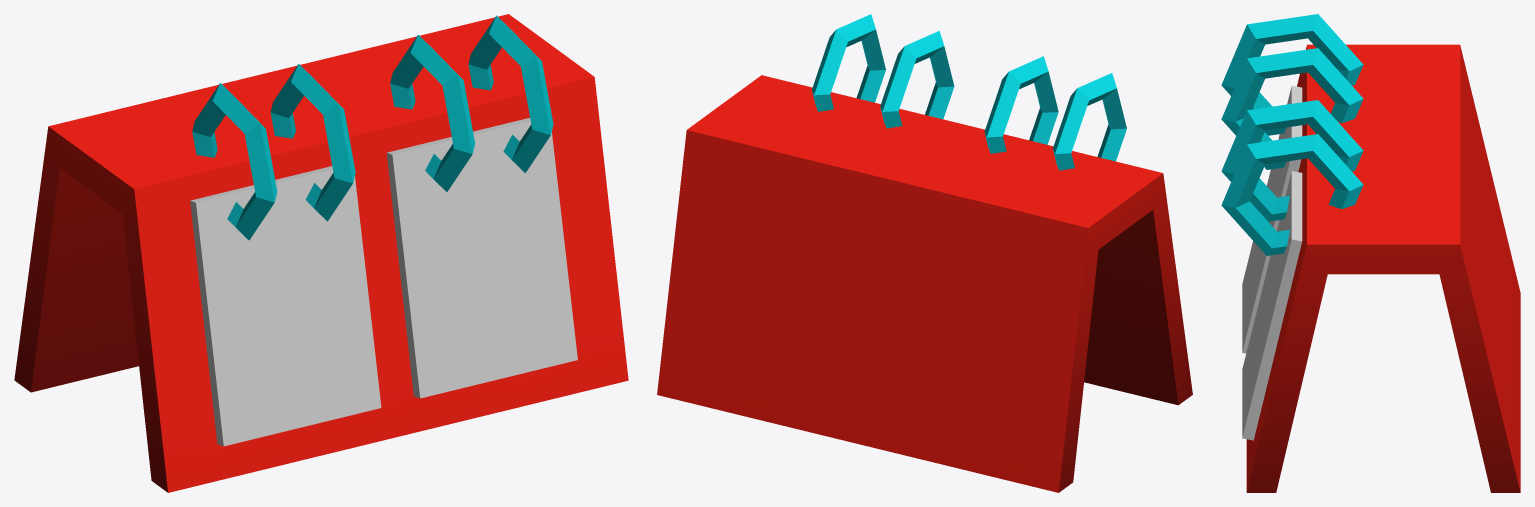
The model's file is FutebolPlacar.fbx.
3 renders of one model, left to right at view 1: azimuth 30°, elevation 25°; view 2: azimuth 150°, elevation 25°; view 3: azimuth 270°, elevation 25°, orthographic. The views are drawn at different scales.
Parts seen in each view (by area): view 1: Placar; view 2: Placar; view 3: Placar.
Part boxes in pixels (box(x1,y1,x2,y2)): Placar: box(14, 14, 628, 492); Placar: box(657, 14, 1192, 492); Placar: box(1221, 14, 1520, 492).
Bounding box in the file's own units: 102 × 76.08 × 64.67.
